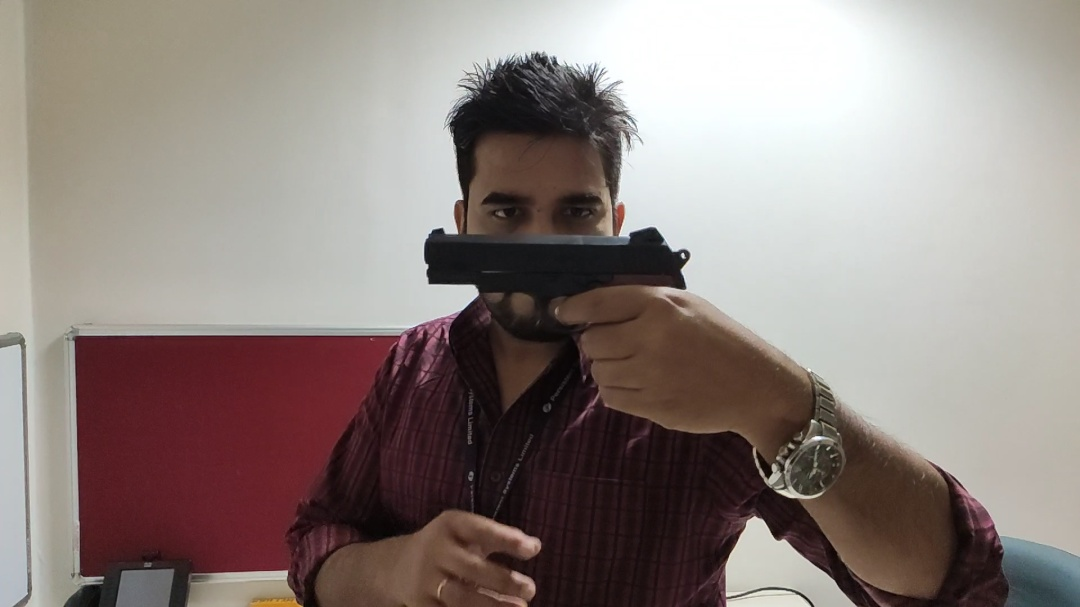gun: (421, 220, 693, 328)
